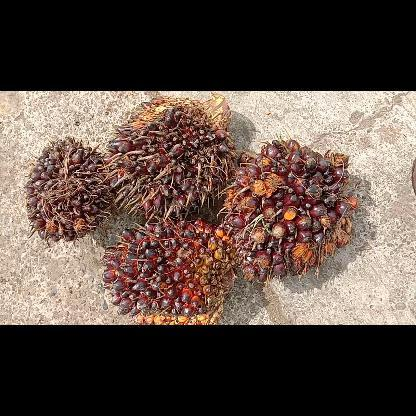Kurang masak: (218, 134, 358, 282), (103, 91, 239, 223), (100, 214, 242, 324), (25, 134, 117, 246)
